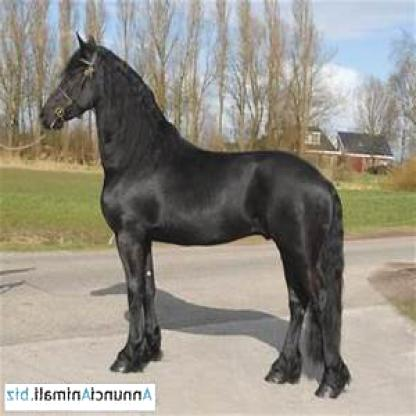horse: (38, 32, 354, 401)
